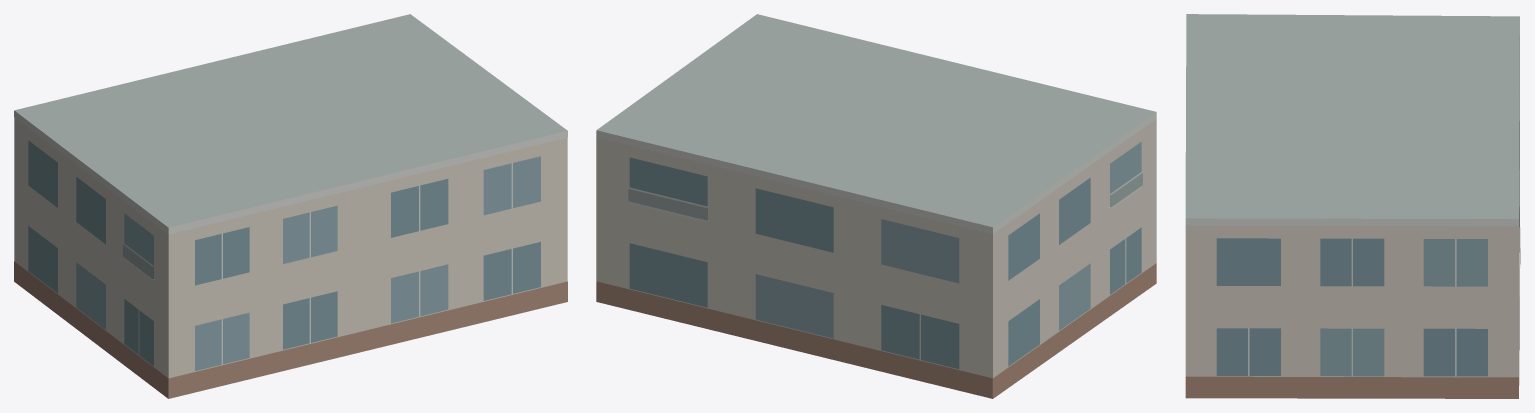
The model's file is survey-upis-32878980.glb.
3 renders of one model, left to right at view 1: azimuth 30°, elevation 25°; view 2: azimuth 150°, elevation 25°; view 3: azimuth 270°, elevation 25°, orthographic. The views are drawn at different scales.
Visible parts, largest first — view 1: survey-upis-32878980.tmp; view 2: survey-upis-32878980.tmp; view 3: survey-upis-32878980.tmp.
Boxes of the visible parts, x1,y1,x2,y2 form: survey-upis-32878980.tmp: (14,14,567,398); survey-upis-32878980.tmp: (596,14,1156,398); survey-upis-32878980.tmp: (1185,14,1520,398).
Bounding box in the file's own units: 14.96 × 6.1 × 10.31.
